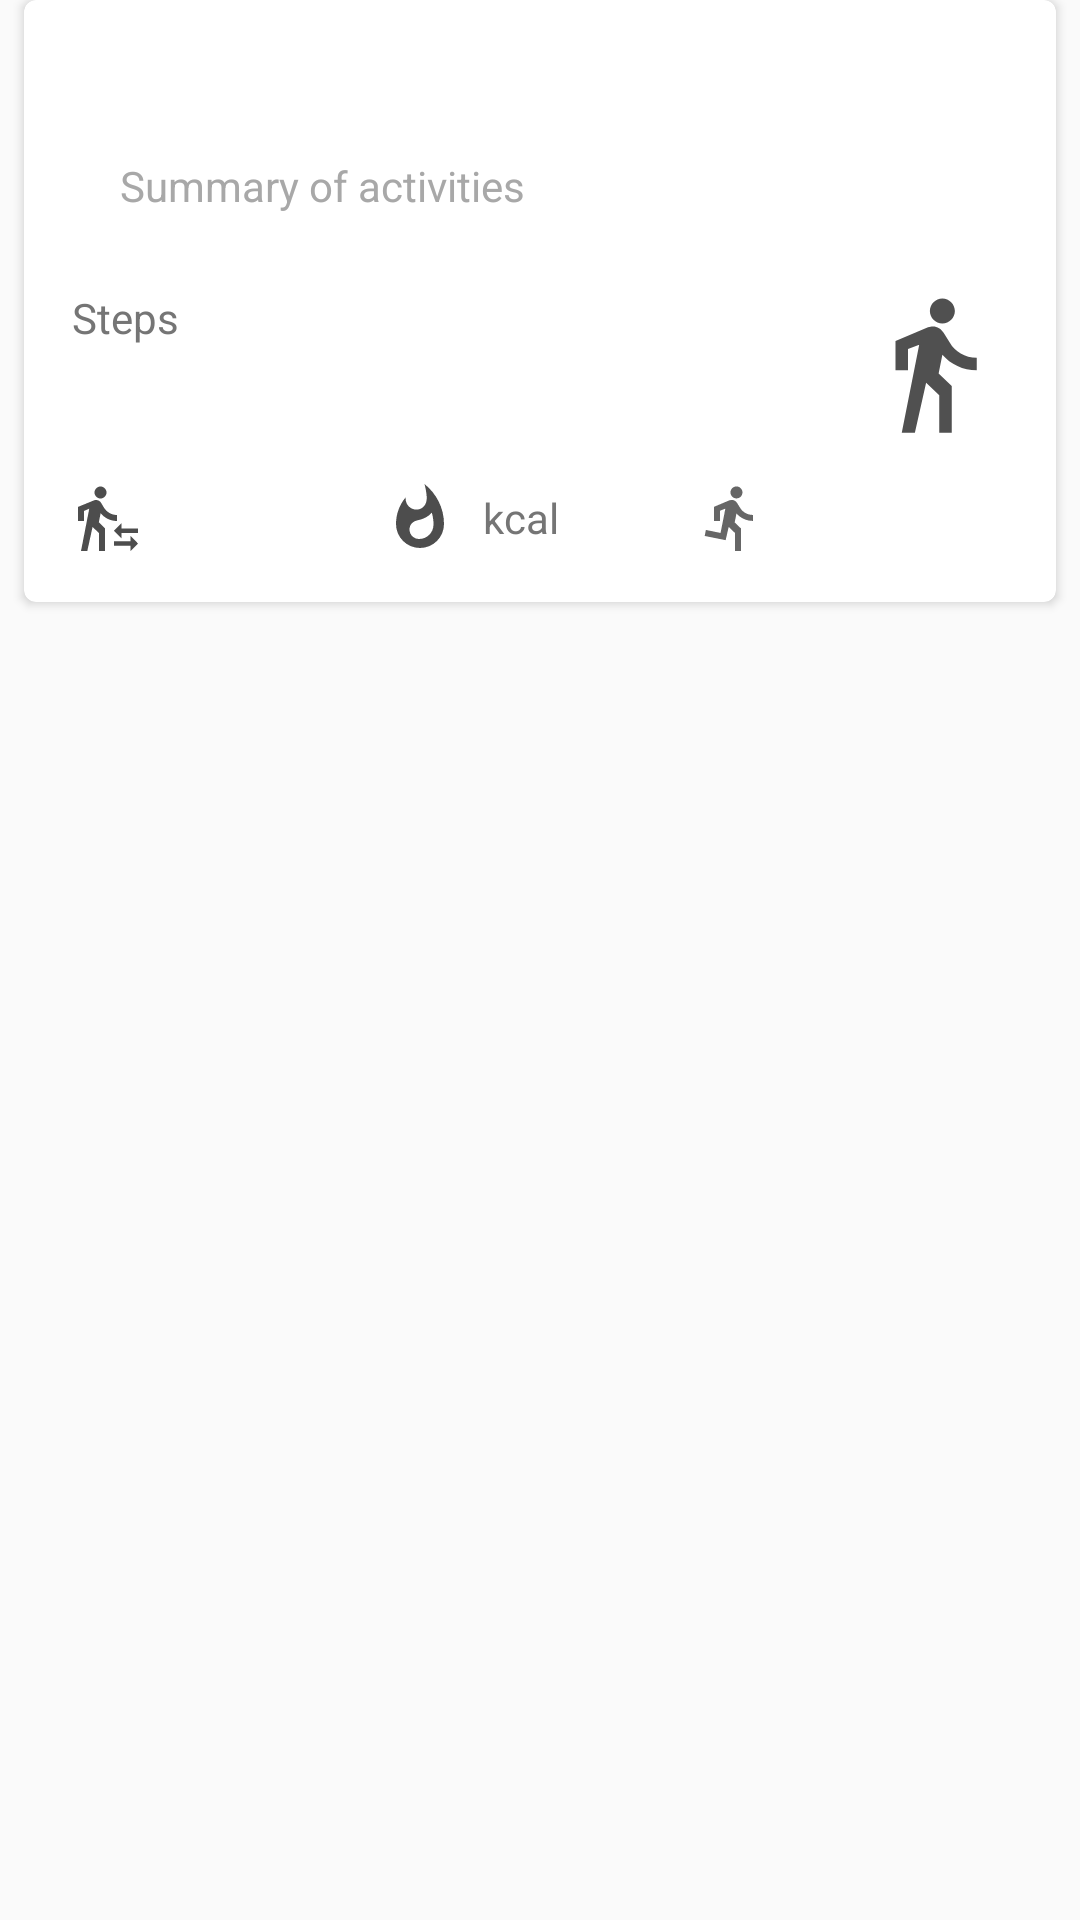

Where to tap for icons on this 1080 x 1920 app screen, as point (x, y):
directions run: point (728, 518)
directions walk 65black: point (936, 365)
fire 65black: point (420, 516)
transfer within station 65black: point (108, 518)
